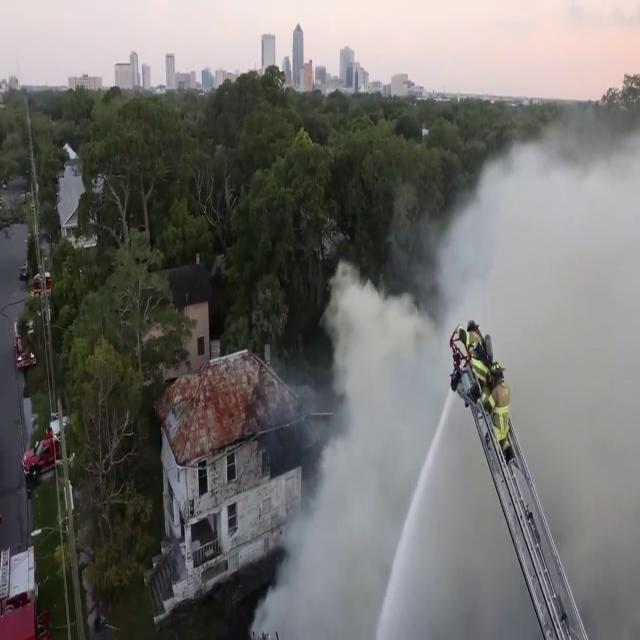Smoke: (274, 365, 522, 640)
